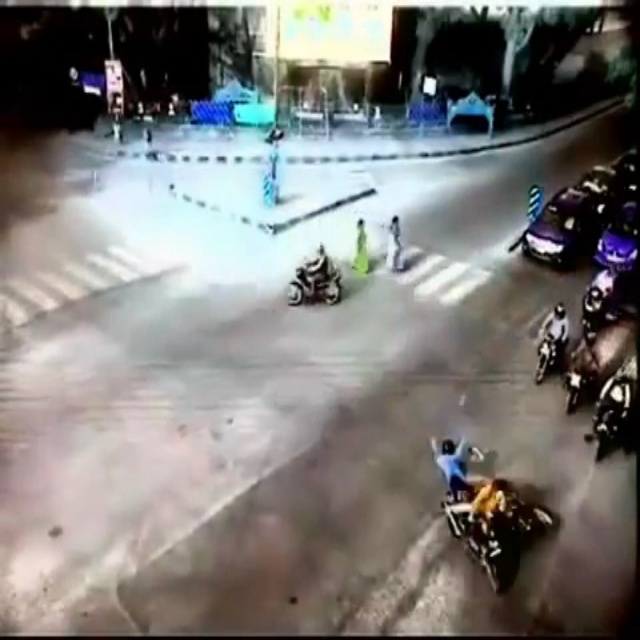acc: (428, 432, 558, 598)
